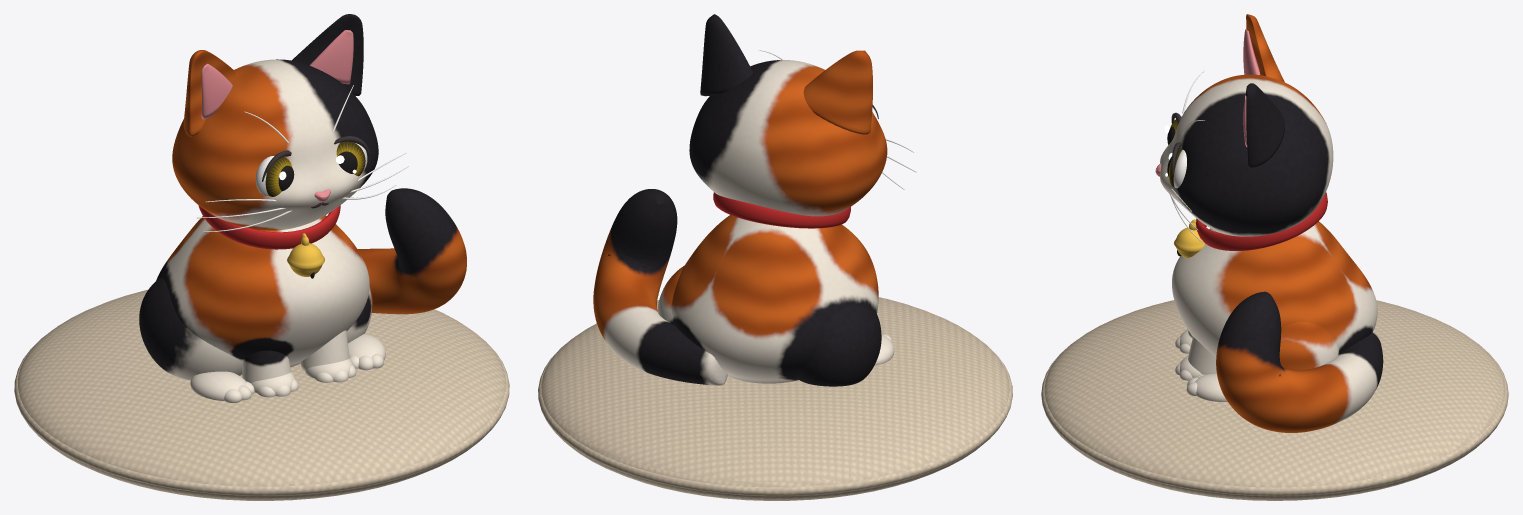
Rendered from calico_cat.glb.
The picture shows the model from 3 angles, left to right: view 1: azimuth 30°, elevation 25°; view 2: azimuth 150°, elevation 25°; view 3: azimuth 270°, elevation 25°; orthographic projection. The views are drawn at different scales.
Parts seen in each view (by area): view 1: SM_CalicoCat_Cushion, SM_CalicoCat_Head, SM_CalicoCat_Body, SM_CalicoCat_Tail, SM_CalicoCat_Paw_BL, SM_CalicoCat_Collar, SM_CalicoCat_Paw_FL, SM_CalicoCat_Ear_L, SM_CalicoCat_Ear_R, SM_CalicoCat_Paw_FR, SM_CalicoCat_Paw_BR, SM_CalicoCat_EarInner_L (+5 smaller); view 2: SM_CalicoCat_Cushion, SM_CalicoCat_Body, SM_CalicoCat_Head, SM_CalicoCat_Tail, SM_CalicoCat_Paw_BL, SM_CalicoCat_Ear_R, SM_CalicoCat_Ear_L, SM_CalicoCat_Collar, SM_CalicoCat_Paw_BR; view 3: SM_CalicoCat_Cushion, SM_CalicoCat_Head, SM_CalicoCat_Body, SM_CalicoCat_Tail, SM_CalicoCat_Paw_BR, SM_CalicoCat_Ear_L, SM_CalicoCat_Collar, SM_CalicoCat_Ear_R, SM_CalicoCat_Paw_FR, SM_CalicoCat_Bell, SM_CalicoCat_Eye_L.
Boxes of the visible parts, box(x1,y1,x2,y2) form: SM_CalicoCat_Cushion: box(14, 290, 509, 500); SM_CalicoCat_Head: box(172, 59, 378, 230); SM_CalicoCat_Body: box(156, 215, 369, 367); SM_CalicoCat_Tail: box(357, 188, 466, 314); SM_CalicoCat_Paw_BL: box(139, 278, 254, 402); SM_CalicoCat_Collar: box(198, 205, 340, 249); SM_CalicoCat_Paw_FL: box(242, 350, 298, 397); SM_CalicoCat_Ear_L: box(292, 14, 363, 95); SM_CalicoCat_Ear_R: box(183, 50, 238, 136); SM_CalicoCat_Paw_FR: box(300, 330, 356, 382); SM_CalicoCat_Paw_BR: box(346, 282, 385, 370); SM_CalicoCat_EarInner_L: box(309, 30, 353, 84); SM_CalicoCat_Cushion: box(538, 297, 1012, 500); SM_CalicoCat_Body: box(671, 215, 878, 383); SM_CalicoCat_Head: box(689, 60, 887, 216); SM_CalicoCat_Tail: box(593, 189, 727, 385); SM_CalicoCat_Paw_BL: box(797, 306, 894, 386); SM_CalicoCat_Ear_R: box(803, 50, 872, 134); SM_CalicoCat_Ear_L: box(700, 14, 753, 96); SM_CalicoCat_Collar: box(713, 192, 850, 228); SM_CalicoCat_Paw_BR: box(657, 265, 684, 324); SM_CalicoCat_Cushion: box(1041, 300, 1508, 500); SM_CalicoCat_Head: box(1160, 74, 1333, 236); SM_CalicoCat_Body: box(1172, 221, 1377, 357); SM_CalicoCat_Tail: box(1216, 291, 1383, 432); SM_CalicoCat_Paw_BR: box(1186, 322, 1339, 401); SM_CalicoCat_Ear_L: box(1246, 83, 1284, 167); SM_CalicoCat_Collar: box(1196, 192, 1327, 250); SM_CalicoCat_Ear_R: box(1246, 14, 1284, 81); SM_CalicoCat_Paw_FR: box(1175, 337, 1216, 380); SM_CalicoCat_Bell: box(1174, 219, 1205, 258); SM_CalicoCat_Eye_L: box(1165, 142, 1186, 188).
Size of the model in its own units: 0.5344 by 0.4854 by 0.5344.
13 materials, 3 textured.
